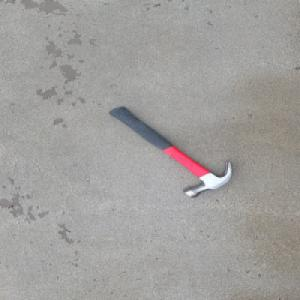Hammer: (106, 105, 234, 199)
